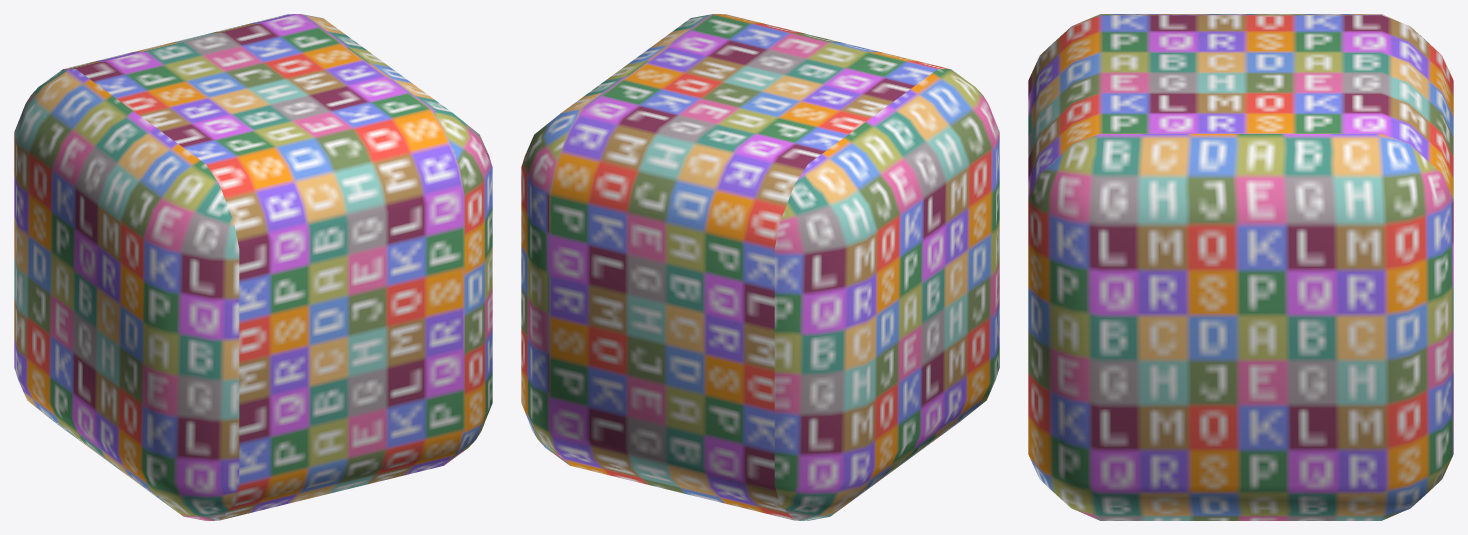
The model's file is bevel_cube.dae.
3 views of the same model, side by side, from view 1: azimuth 30°, elevation 25°; view 2: azimuth 150°, elevation 25°; view 3: azimuth 270°, elevation 25° (orthographic). The views are drawn at different scales.
Visible parts, largest first — view 1: Cube1-0; view 2: Cube1-0; view 3: Cube1-0.
Boxes of the visible parts, x1,y1,x2,y2 form: Cube1-0: (14,14,492,520); Cube1-0: (521,14,999,520); Cube1-0: (1028,14,1453,520).
Bounding box in the file's own units: 2 × 2 × 2.
